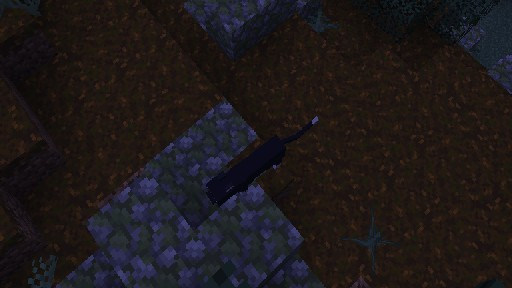cat: (205, 115, 319, 206)
